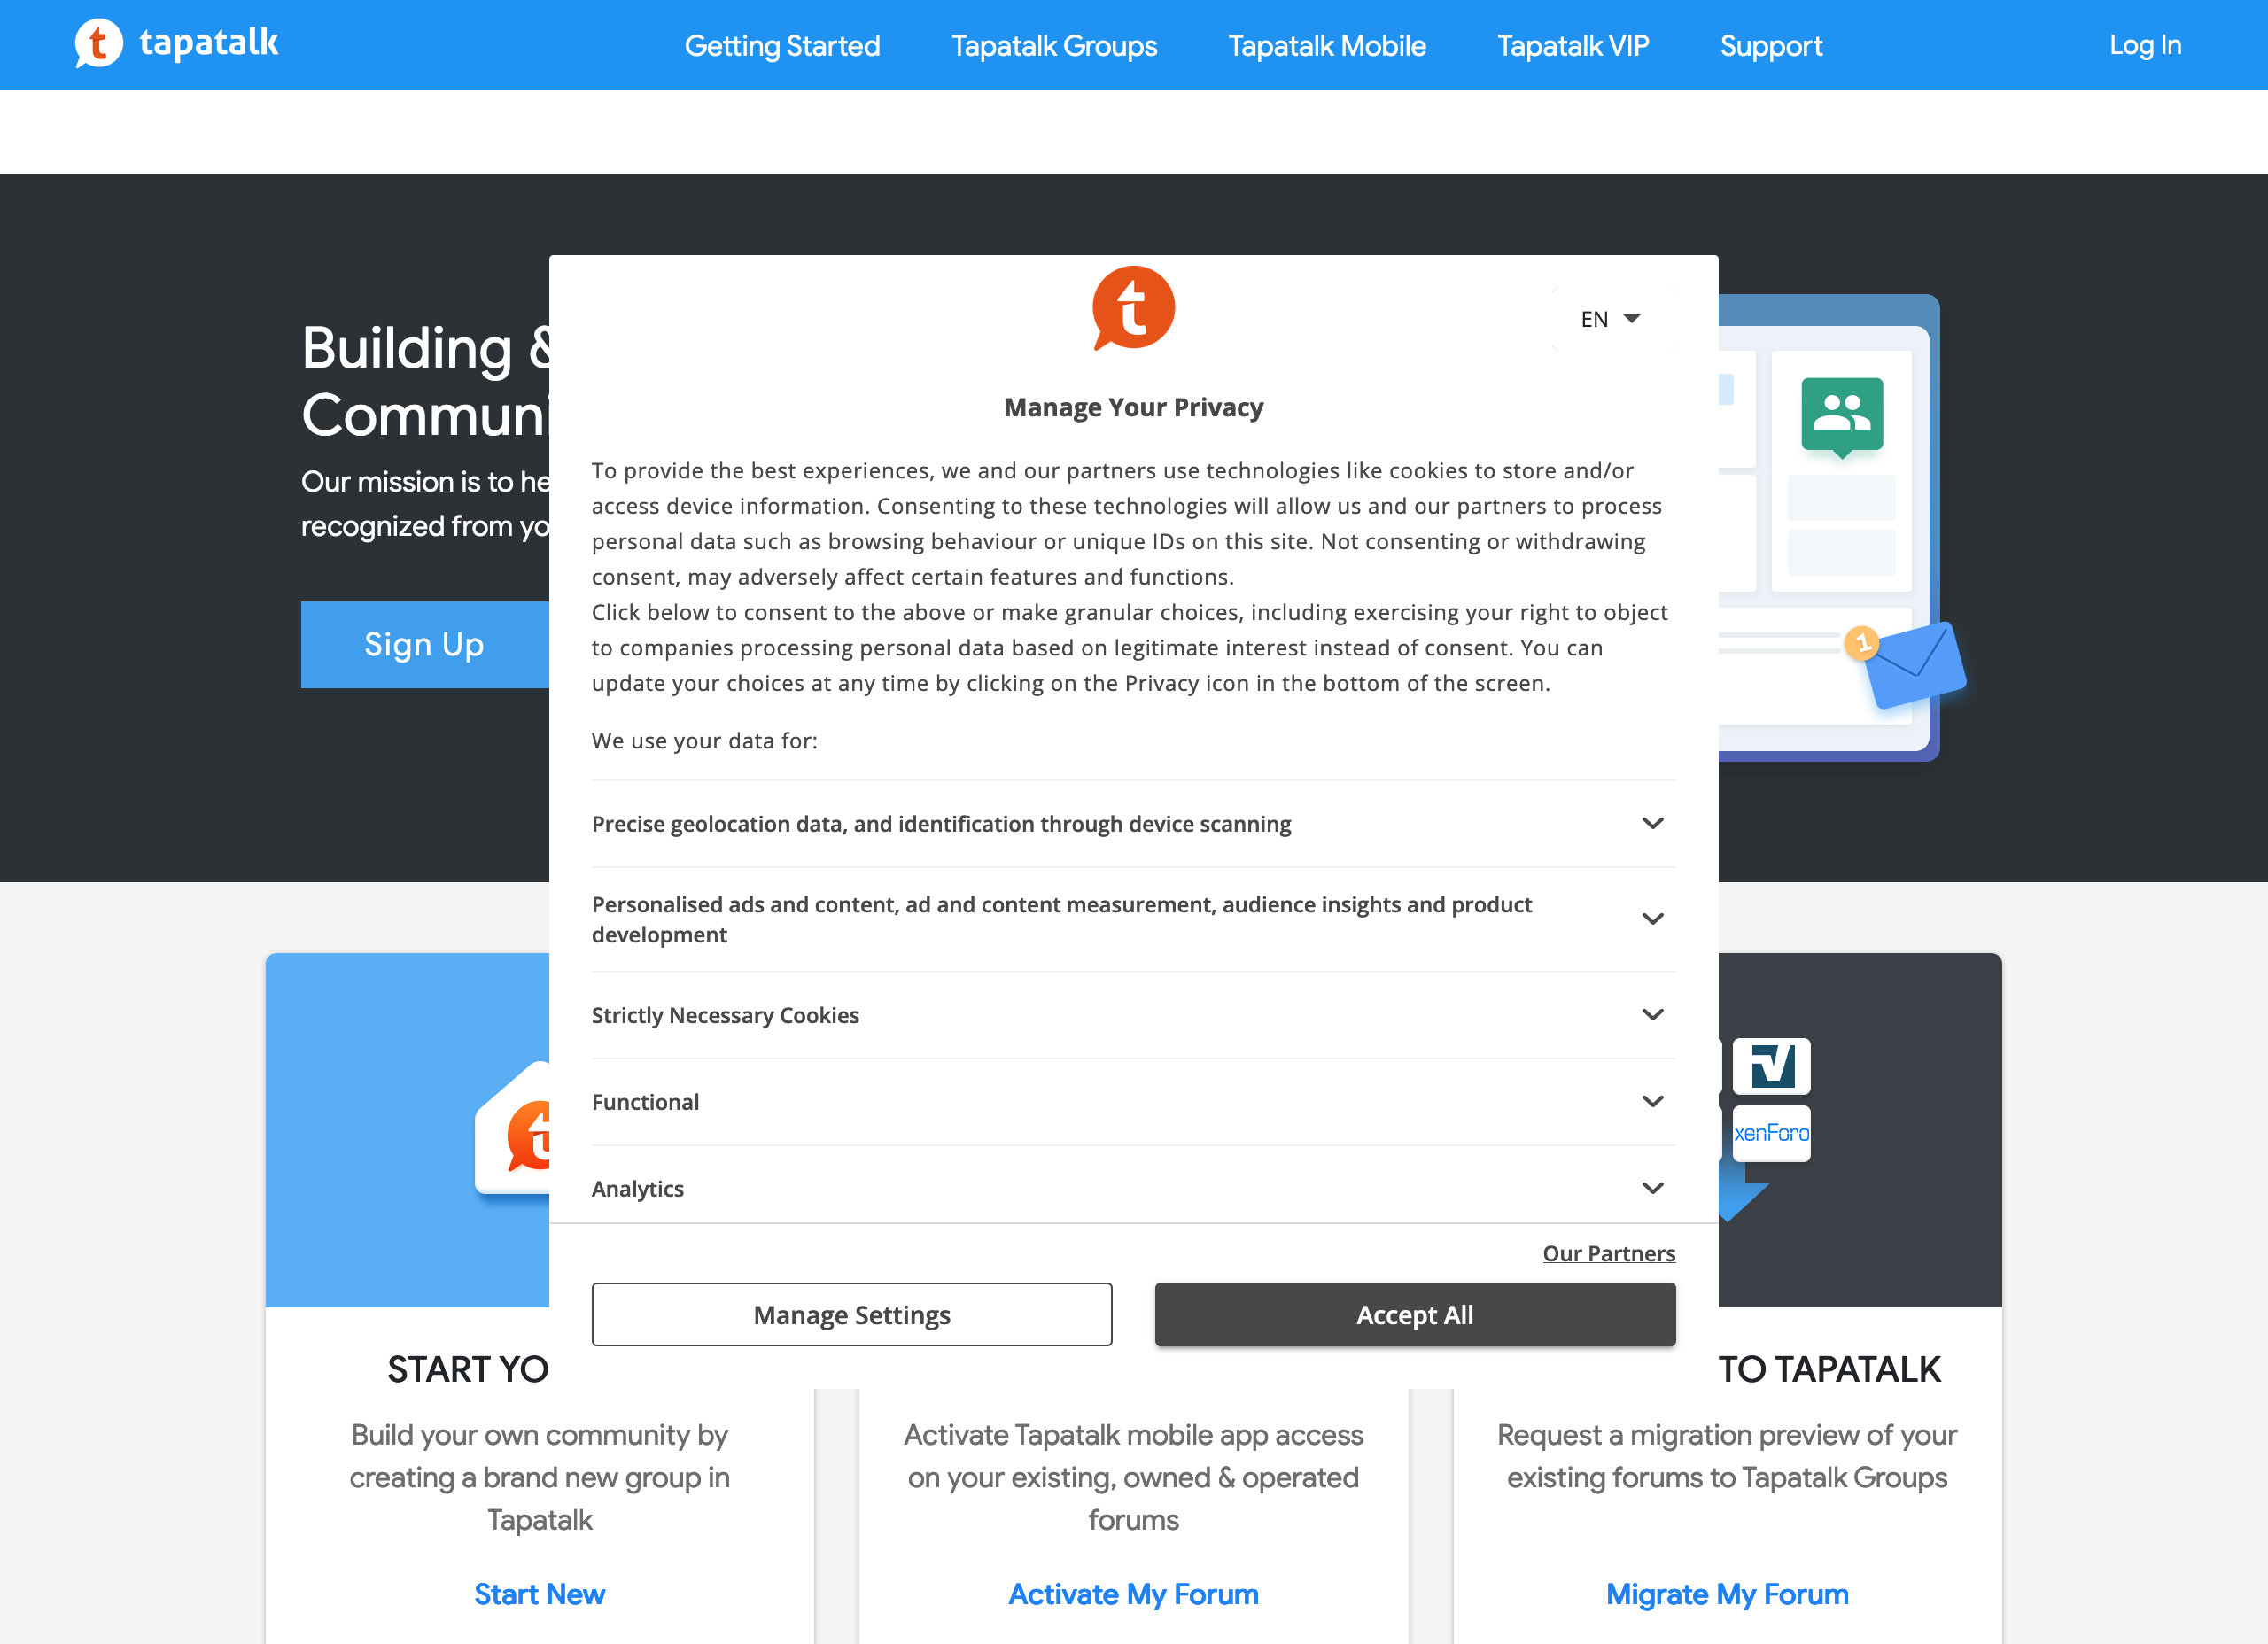Login: (2097, 18, 2201, 72)
